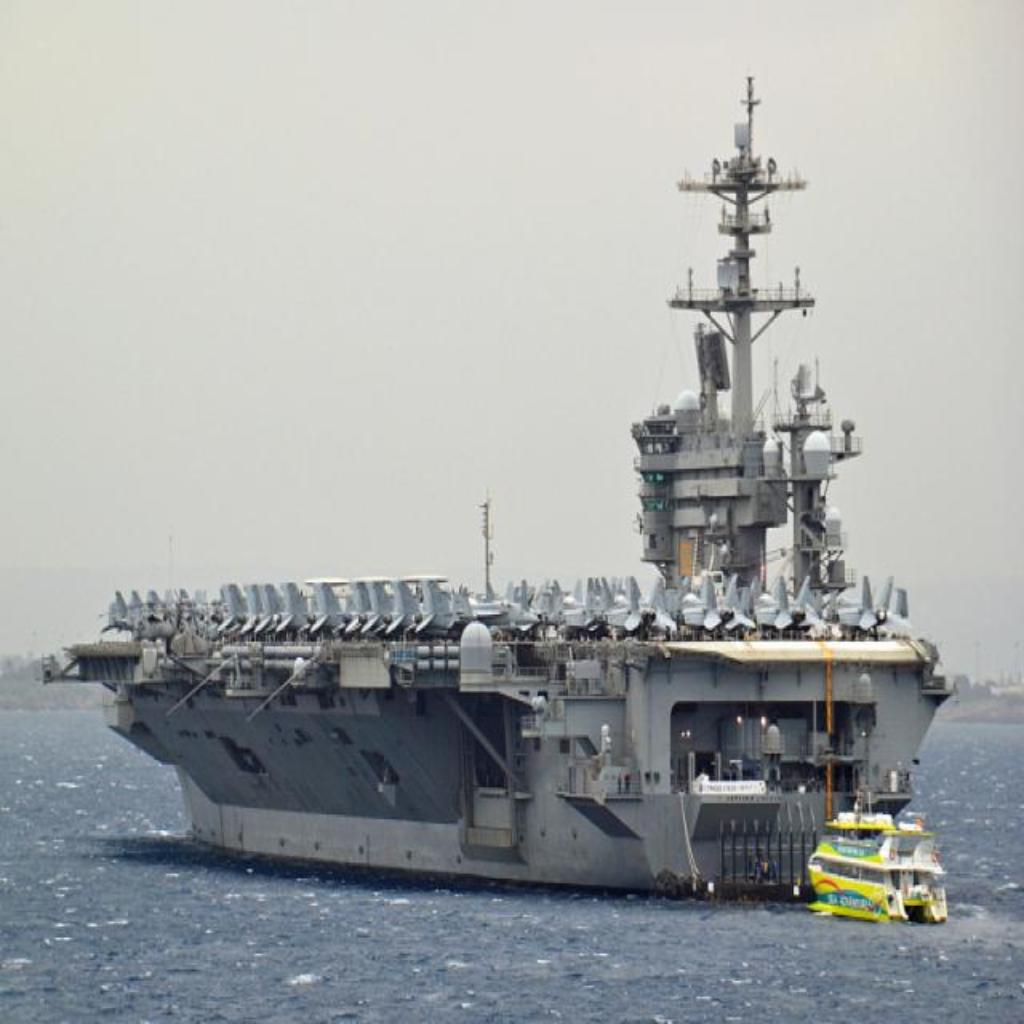PassengerShip: (796, 796, 964, 932)
